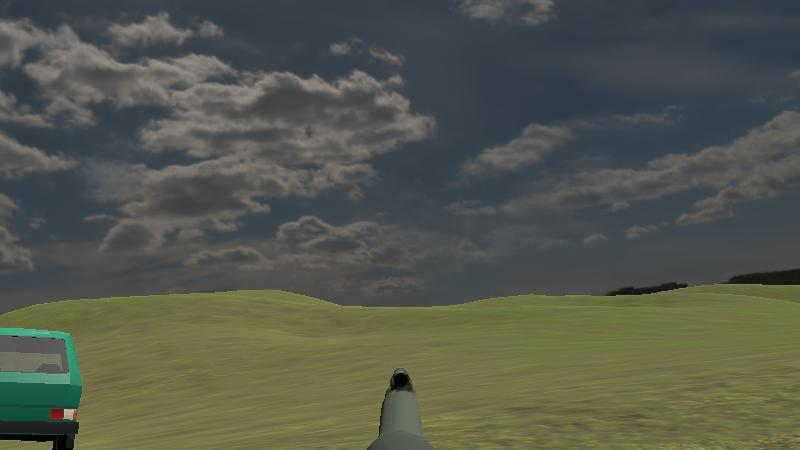car: (0, 325, 84, 449)
